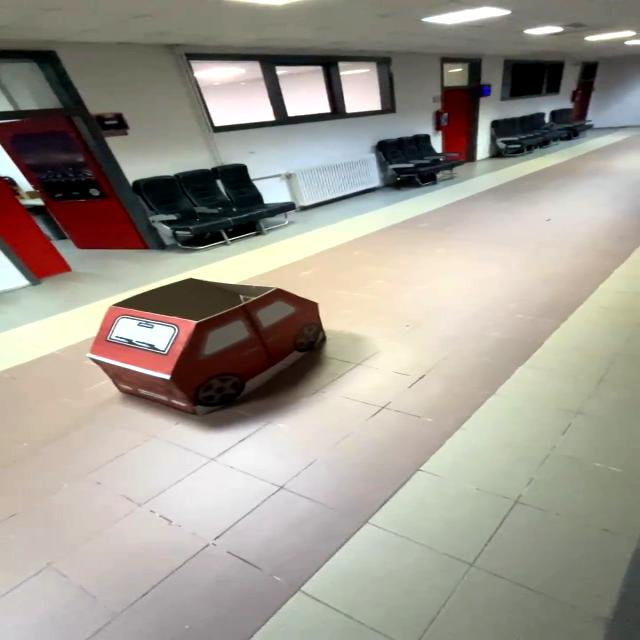red_car: (66, 266, 340, 419)
